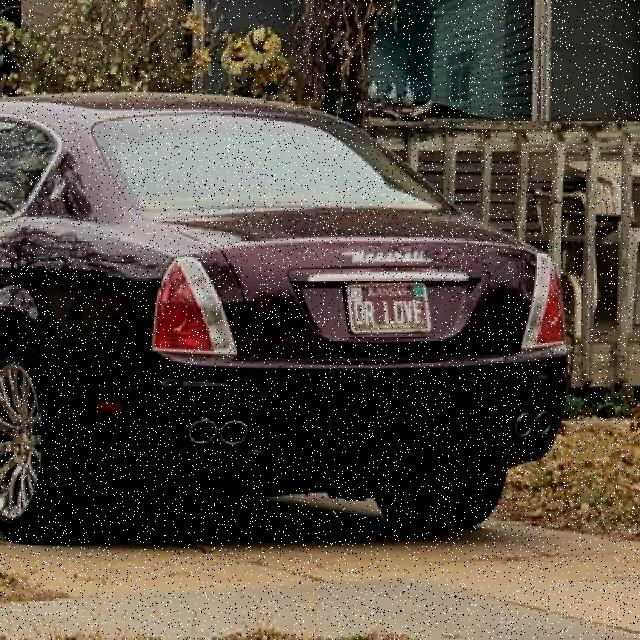licenseplate: (348, 283, 431, 333)
